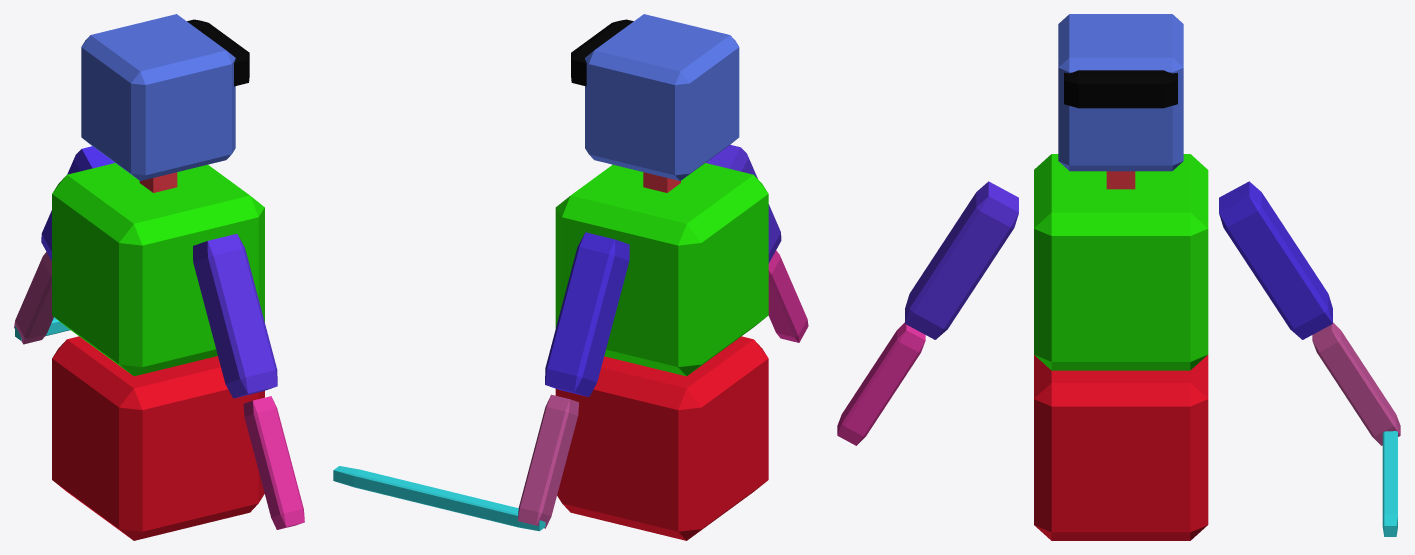
File: enemy.fbx
3 renders of one model, left to right at view 1: azimuth 30°, elevation 25°; view 2: azimuth 150°, elevation 25°; view 3: azimuth 270°, elevation 25°, orthographic. The views are drawn at different scales.
Parts seen in each view (by area): view 1: govde, alt, bas, solkol, solaltkol, sagaltkol, gozluk, sagkol, boyun; view 2: govde, alt, bas, sagkol, sagaltkol, sopa, solaltkol, solkol, gozluk; view 3: govde, alt, bas, sagkol, solkol, gozluk, solaltkol, sagaltkol, sopa.
Boxes of the visible parts, box(x1,y1,x2,y2) form: govde: box(52, 163, 264, 376); alt: box(52, 336, 264, 540); bas: box(81, 14, 235, 180); solkol: box(193, 234, 277, 398); solaltkol: box(243, 396, 304, 529); sagaltkol: box(14, 252, 53, 344); gozluk: box(187, 19, 249, 86); sagkol: box(41, 146, 114, 260); boyun: box(139, 172, 177, 192); govde: box(555, 163, 768, 376); alt: box(555, 336, 768, 540); bas: box(585, 14, 739, 180); sagkol: box(545, 232, 629, 396); sagaltkol: box(517, 394, 578, 528); sopa: box(333, 466, 545, 531); solaltkol: box(768, 250, 808, 342); solkol: box(705, 144, 781, 263); gozluk: box(571, 19, 633, 86); govde: box(1034, 154, 1208, 370); alt: box(1034, 355, 1208, 540); bas: box(1058, 14, 1183, 171); sagkol: box(1219, 181, 1332, 339); solkol: box(905, 181, 1018, 339); gozluk: box(1064, 70, 1177, 108); solaltkol: box(837, 322, 925, 445); sagaltkol: box(1312, 322, 1400, 445); sopa: box(1382, 431, 1397, 536).
Bounding box in the file's own units: 369 × 602 × 647.
